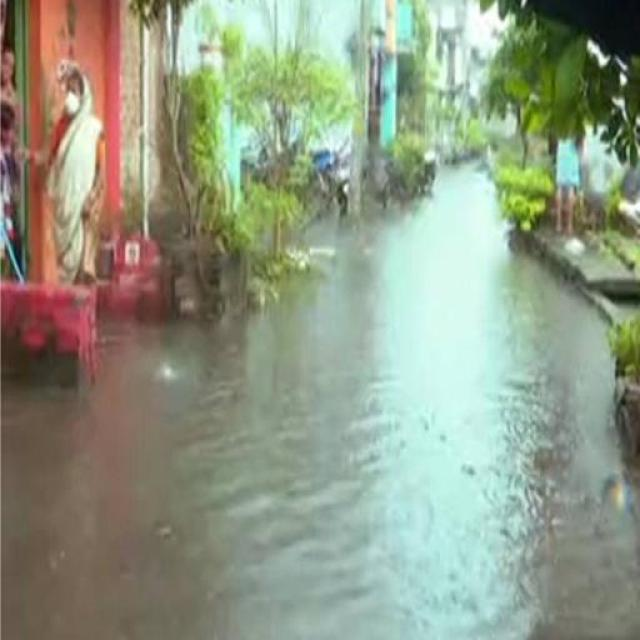puddle: (17, 389, 633, 640), (300, 211, 515, 488), (111, 328, 611, 443)
